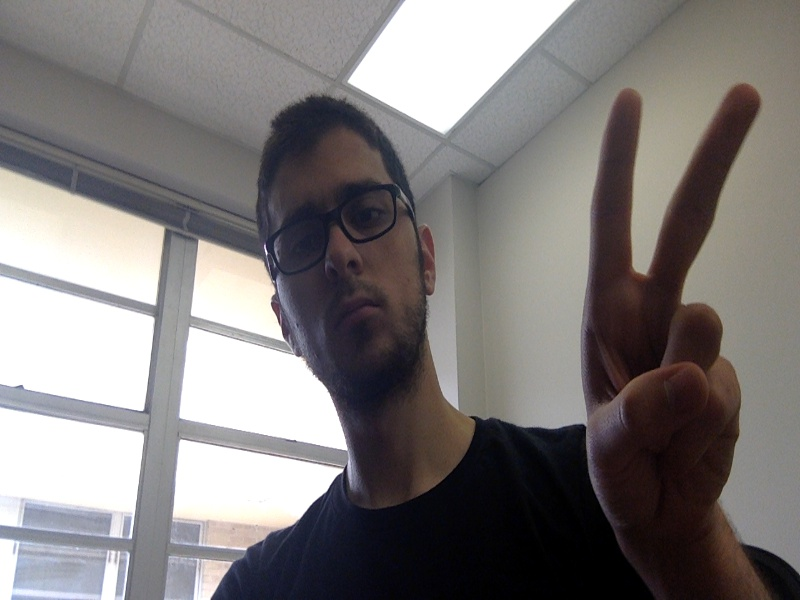2-hand: (584, 85, 760, 530)
